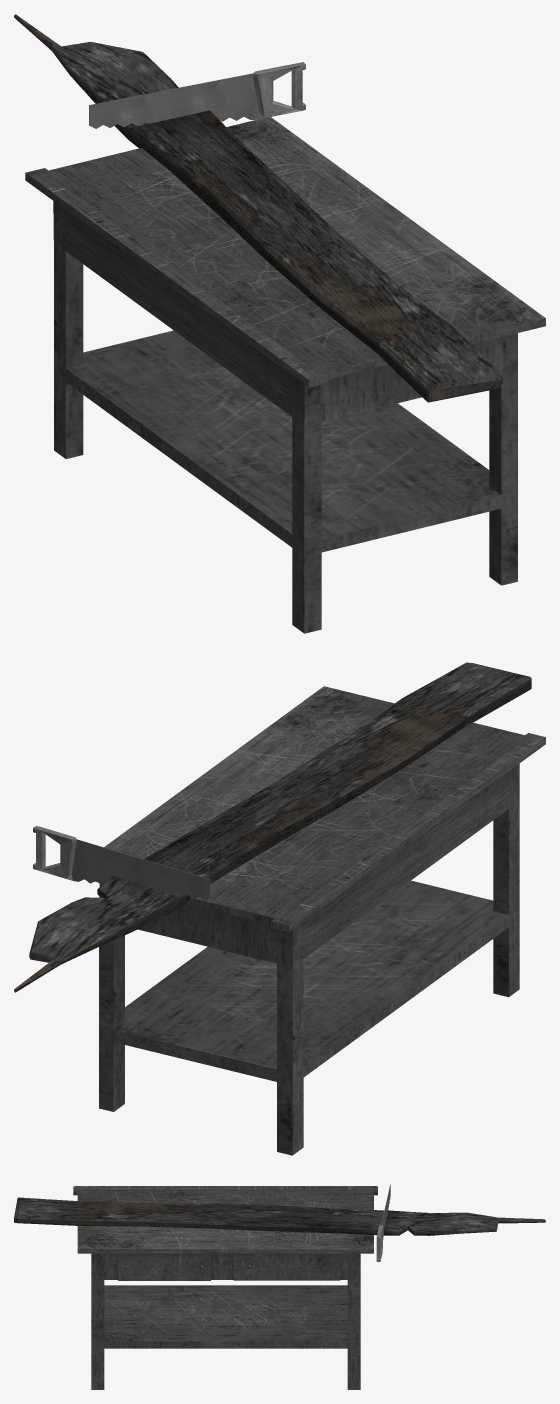
Rendered from sawing station.fbx.
3 views of the same model, one above another, from view 1: azimuth 30°, elevation 25°; view 2: azimuth 150°, elevation 25°; view 3: azimuth 270°, elevation 25° (orthographic). The views are drawn at different scales.
Visible parts, largest first — view 1: crafttable, Plank Processed, Saw, Plank Initial, Plank Debris; view 2: crafttable, Plank Processed, Plank Debris, Saw, Plank Initial; view 3: crafttable, Plank Processed, Plank Debris, Plank Initial, Saw.
Part boxes in pixels (box(x1,y1,x2,y2)): crafttable: box(25, 116, 545, 633); Plank Processed: box(129, 110, 502, 386); Saw: box(89, 62, 305, 128); Plank Initial: box(17, 20, 501, 402); Plank Debris: box(14, 14, 178, 129); crafttable: box(95, 686, 545, 1155); Plank Processed: box(143, 662, 526, 897); Plank Debris: box(15, 875, 177, 990); Saw: box(33, 826, 210, 900); Plank Initial: box(14, 663, 531, 992); crafttable: box(73, 1186, 377, 1389); Plank Processed: box(16, 1197, 384, 1234); Plank Debris: box(384, 1210, 545, 1234); Plank Initial: box(14, 1197, 545, 1235); Saw: box(376, 1184, 390, 1261).
Bounding box in the file's own units: 117 × 124 × 359.
